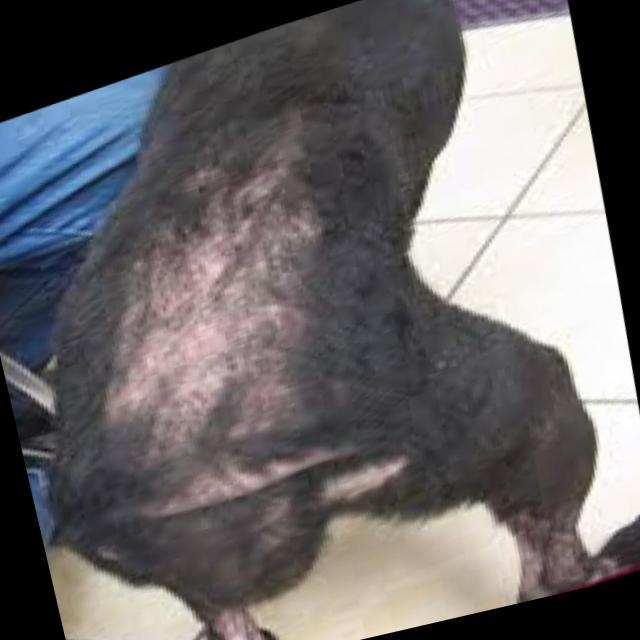allergic dermatitis: (123, 109, 325, 459)
